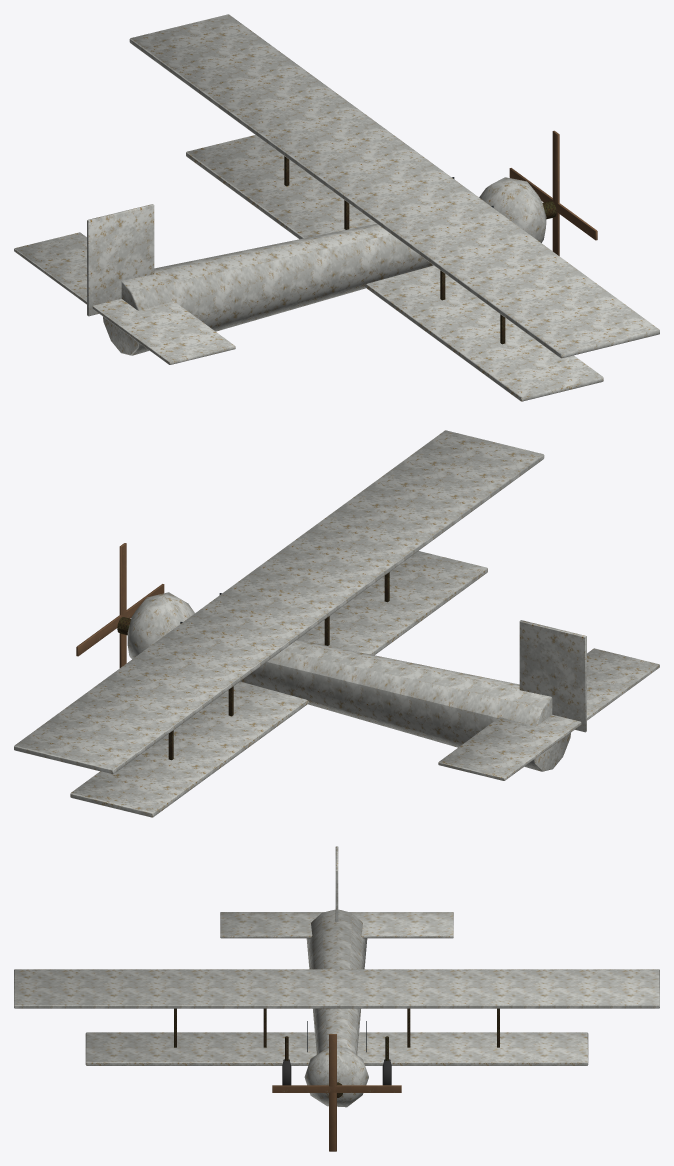
File: veh_plane.gltf
3 renders of one model, top to bottom at view 1: azimuth 30°, elevation 25°; view 2: azimuth 150°, elevation 25°; view 3: azimuth 270°, elevation 25°, orthographic. The views are drawn at different scales.
Parts seen in each view (by area): view 1: box.002, box.003, cyl, box.008, box.009, blob, box.001, box; view 2: box.002, box.003, cyl, box.008, box.009, blob, box.001, box; view 3: box.002, box.003, box.008, cyl, blob, box, box.001.
Boxes of the visible parts, x1,y1,x2,y2 form: box.002: [129, 14, 659, 358]; box.003: [186, 135, 603, 401]; cyl: [103, 224, 433, 355]; box.008: [14, 232, 235, 364]; box.009: [87, 204, 154, 316]; blob: [479, 177, 546, 242]; box.001: [552, 130, 559, 255]; box: [509, 168, 597, 240]; box.002: [14, 430, 544, 774]; box.003: [70, 551, 487, 817]; cyl: [240, 640, 570, 771]; box.008: [438, 648, 659, 780]; box.009: [519, 620, 586, 732]; blob: [127, 592, 194, 659]; box.001: [119, 543, 126, 667]; box: [76, 584, 164, 656]; box.002: [14, 969, 659, 1008]; box.003: [85, 1032, 588, 1065]; box.008: [220, 912, 453, 938]; cyl: [306, 909, 367, 1054]; blob: [304, 1047, 368, 1107]; box: [272, 1085, 401, 1092]; box.001: [329, 1034, 336, 1151].
Bounding box in the file's own units: 11.25 × 4.15 × 18.
Materials: 5 (3 with a texture image).
